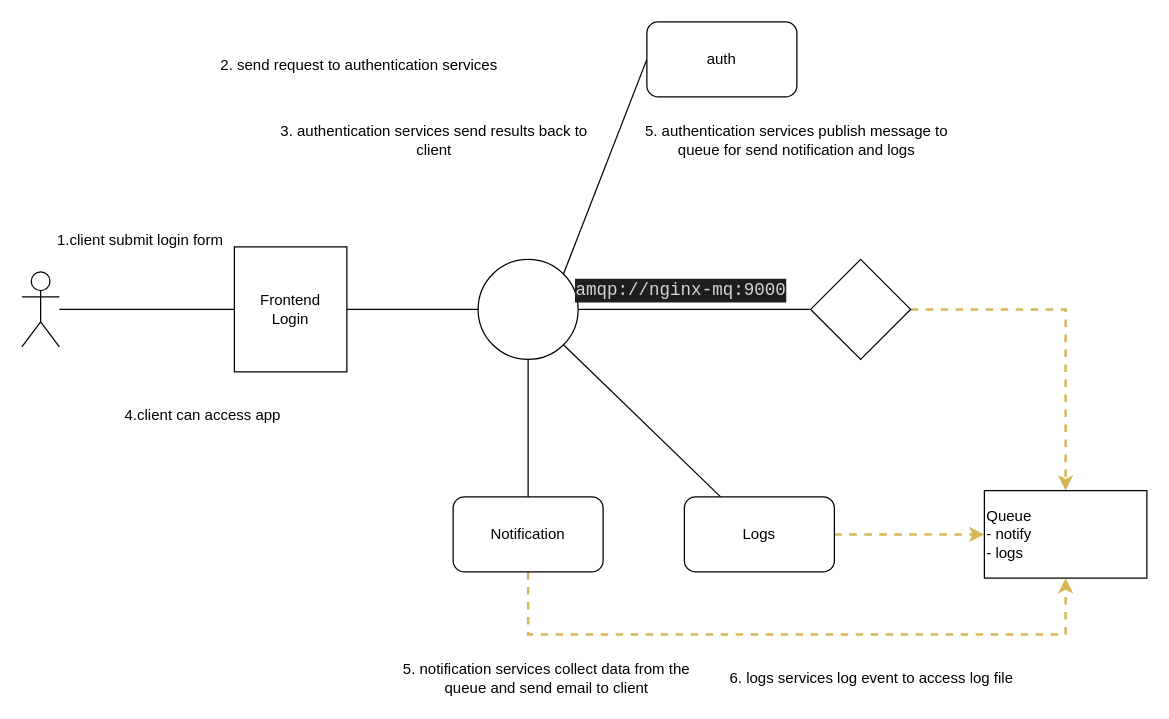
Image size: 1169x719. Some labels were removed from this diagram. The box of each missing label's shape, as (x1, y1, x2, y2) in pixels:
Actor: (21, 271, 59, 347)
NGINX: (477, 258, 578, 359)
RabbitMQ: (809, 258, 911, 359)
